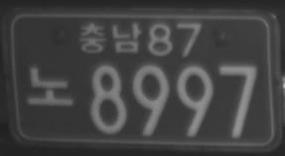7: (217, 63, 258, 139), (175, 21, 203, 58)
8: (88, 63, 128, 136), (146, 22, 173, 58)
9: (130, 62, 171, 137), (175, 63, 215, 138)
노: (25, 65, 74, 107)
충남_O: (78, 20, 142, 55)
